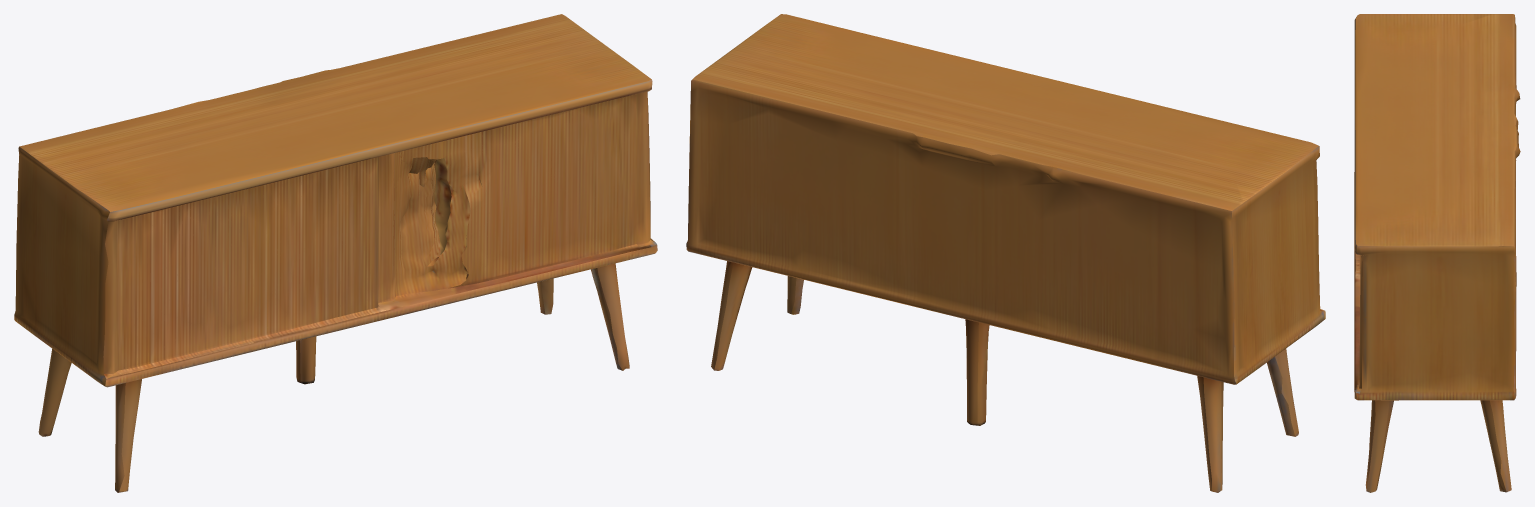
File: MeubleSalon3_3D_textured.glb
3 renders of one model, left to right at view 1: azimuth 30°, elevation 25°; view 2: azimuth 150°, elevation 25°; view 3: azimuth 270°, elevation 25°, orthographic. The views are drawn at different scales.
Visible parts, largest first — view 1: temp_mesh.ply; view 2: temp_mesh.ply; view 3: temp_mesh.ply.
Part boxes in pixels (box(x1,y1,x2,y2)): temp_mesh.ply: box(14, 14, 657, 492); temp_mesh.ply: box(686, 14, 1325, 492); temp_mesh.ply: box(1354, 14, 1520, 492).
Bounding box in the file's own units: 1.97 × 0.9893 × 0.5854.
1 material, 1 textured.
